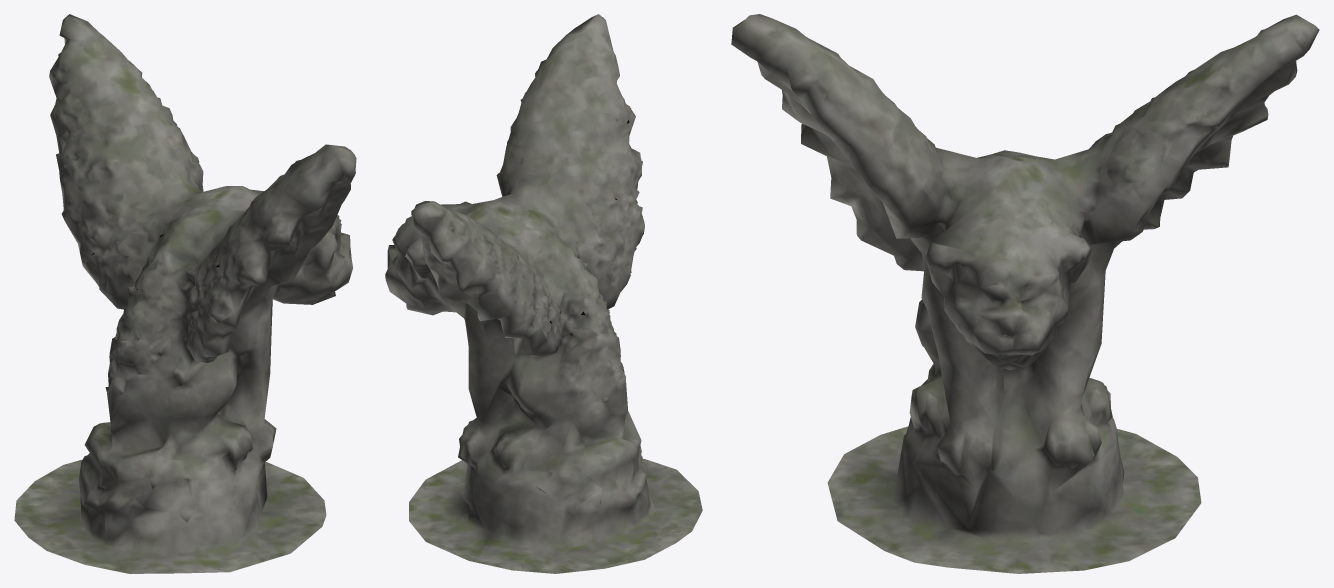
File: gargoyle.glb
The picture shows the model from 3 angles, left to right: view 1: azimuth 30°, elevation 25°; view 2: azimuth 150°, elevation 25°; view 3: azimuth 270°, elevation 25°; orthographic projection. The views are drawn at different scales.
Visible parts, largest first — view 1: Object_2; view 2: Object_2; view 3: Object_2.
Part boxes in pixels (left/top/right/bottom): Object_2: left=14, top=14, right=356, bottom=573; Object_2: left=385, top=14, right=702, bottom=573; Object_2: left=731, top=14, right=1319, bottom=573.
Size of the model in its own units: 0.517 by 0.6824 by 0.6992.
1 material, 1 textured.
